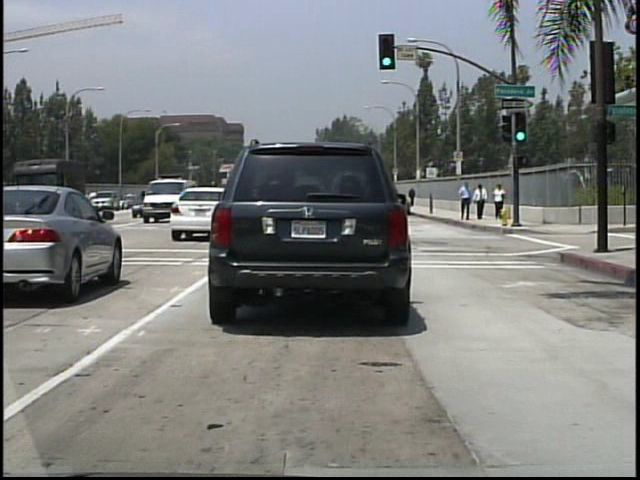person: (458, 179, 474, 222), (474, 183, 489, 220), (492, 183, 506, 220), (409, 185, 417, 208)
